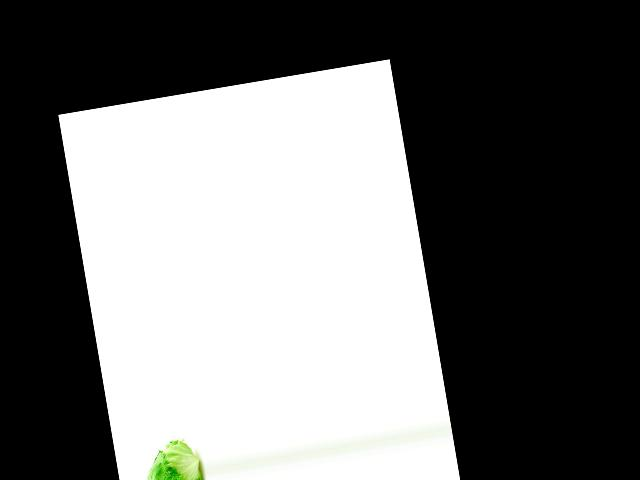lettuce: (138, 437, 207, 480)
